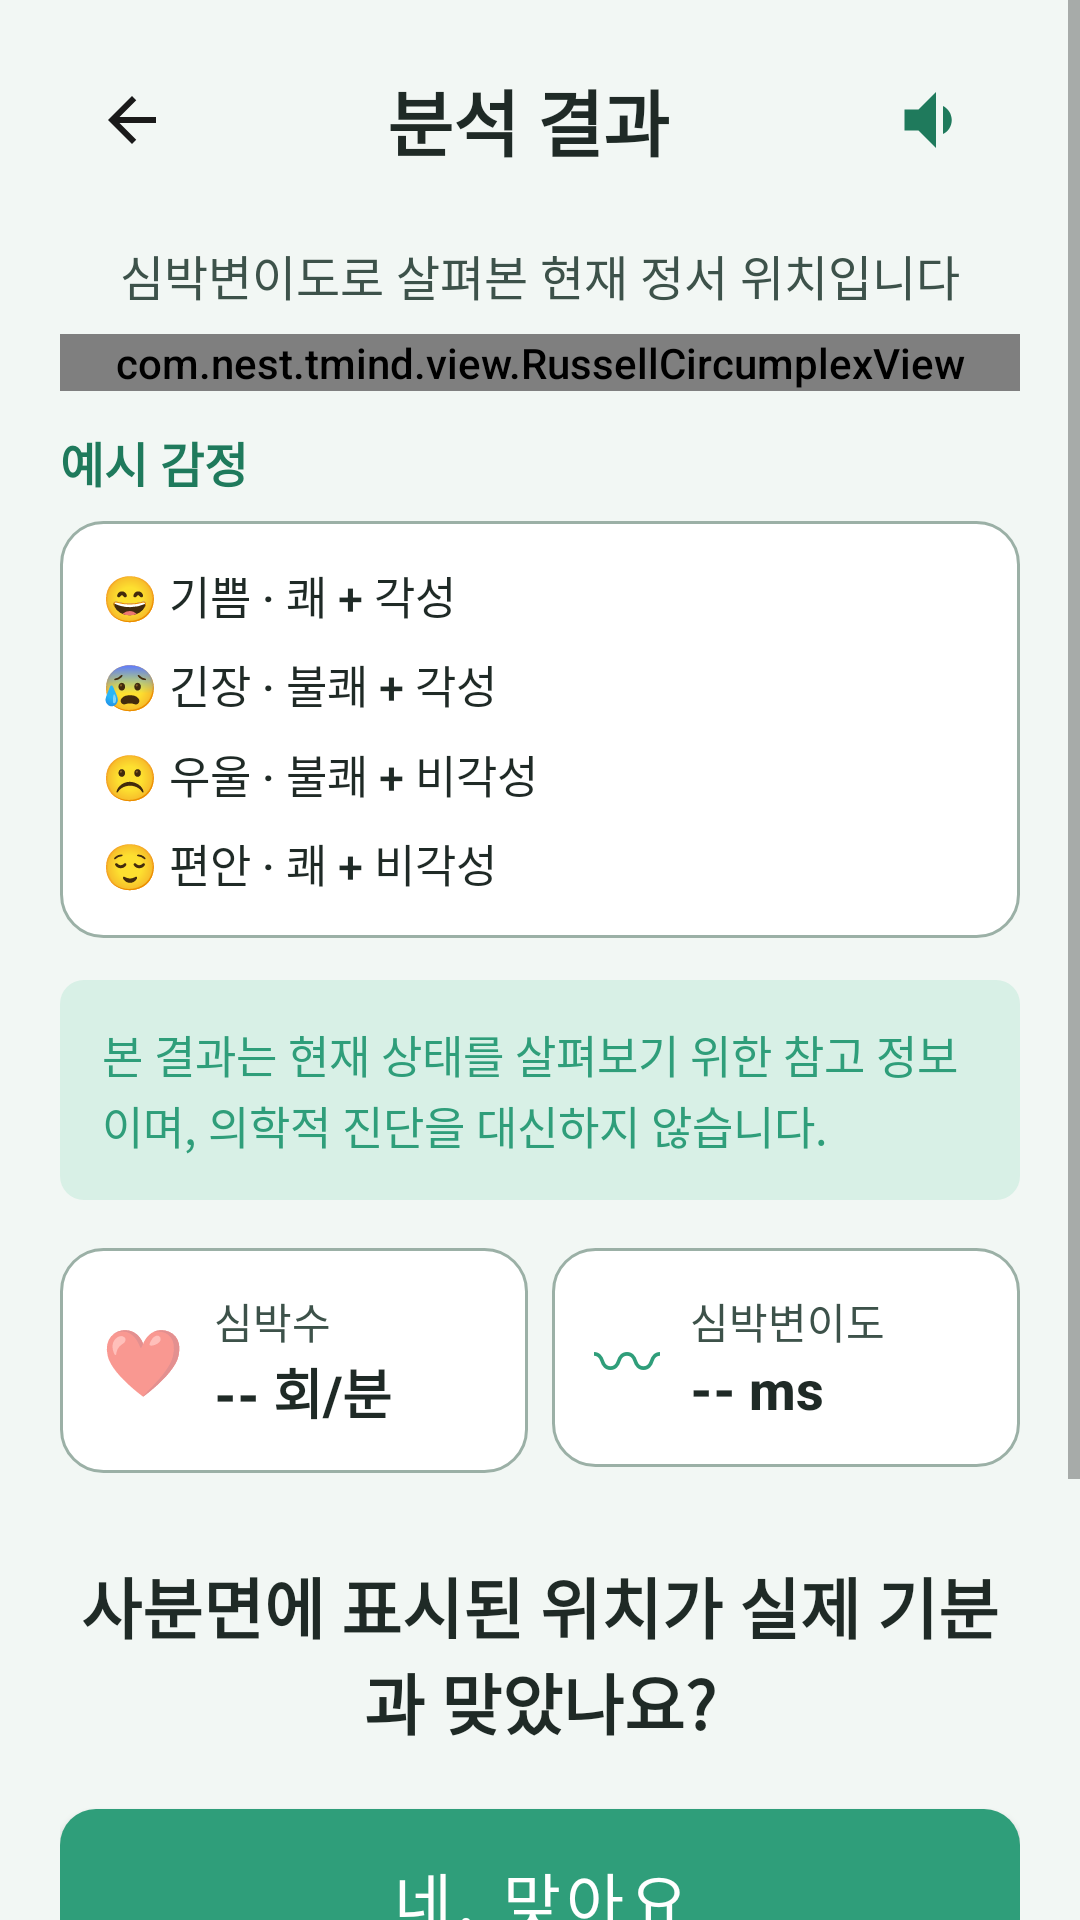

Screen size 1080 × 1920. Icon name, then its center in pixels as [x,y]:
이전: [132,120]
읽어주기: [928,120]
